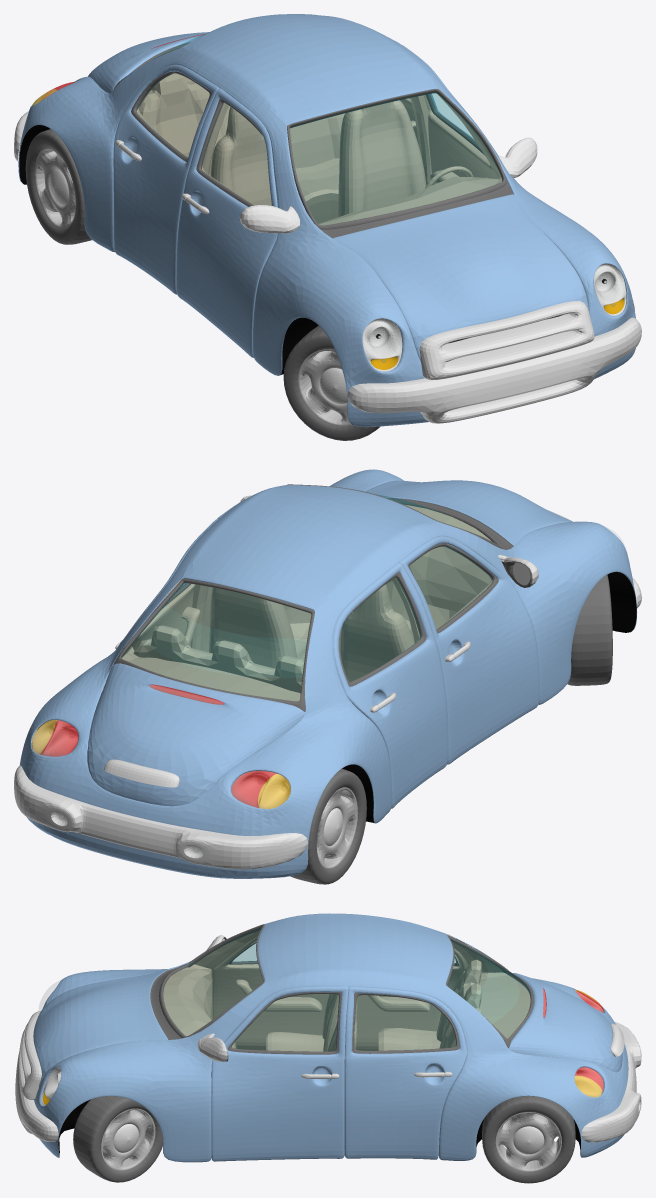
The model's file is sweethome3d-katorlegaz-concept-sedan-02-59.glb.
The picture shows the model from 3 angles, top to bottom: view 1: azimuth 30°, elevation 25°; view 2: azimuth 150°, elevation 25°; view 3: azimuth 270°, elevation 25°; orthographic projection. The views are drawn at different scales.
Visible parts, largest first — view 1: Sedan02_body_Sedan02_body_PAINT_lt_blue, Sedan02_hood_Sedan02_hood_PAINT_lt_blue, Sedan02_windshield_Sedan02_windshield_GLASS_car_window, Sedan02_door_FR_Sedan02_door_FR_PAINT_lt_blue, Sedan02_interior_Sedan02_interior_CAR_interior_beige, Sedan02_bumper_F_Sedan02_bumper_F_METAL_chrome, Sedan02_door_RR_Sedan02_door_RR_PAINT_lt_blue, Sedan02_hood_Sedan02_hood_METAL_chrome, Sedan_02_seat_FL_Sedan02_seat_FL_CAR_interior_beige, Sedan02_door_FR_Sedan02_door_FR_GLASS_car_window, Sedan02_seat_FR_Sedan02_seat_FR_CAR_interior_beige, Sedan02_door_RR_Sedan02_door_RR_GLASS_car_window (+16 smaller); view 2: Sedan02_body_Sedan02_body_PAINT_lt_blue, Sedan02_trunk_Sedan02_trunk_PAINT_lt_blue, Sedan02_door_FR_Sedan02_door_FR_PAINT_lt_blue, Sedan02_interior_Sedan02_interior_CAR_interior_beige, Sedan02_door_RR_Sedan02_door_RR_PAINT_lt_blue, Sedan02_bumper_R_Sedan02_bumper_R_METAL_chrome, Sedan02_rear_window_Sedan02_rear_window_GLASS_car_window, Sedan02_rear_window_Sedan02_rear_window_GLASS_car_defroster, Sedan02_hood_Sedan02_hood_PAINT_lt_blue, Sedan02_door_RR_Sedan02_door_RR_GLASS_car_window, Sedan_02_seat_FL_Sedan02_seat_FL_CAR_interior_beige, Sedan02_seat_FR_Sedan02_seat_FR_CAR_interior_beige (+18 smaller); view 3: Sedan02_body_Sedan02_body_PAINT_lt_blue, Sedan02_door_FL_Sedan02_door_FL_PAINT_lt_blue, Sedan02_door_RL_Sedan02_door_RL_PAINT_lt_blue, Sedan02_interior_Sedan02_interior_CAR_interior_beige, Sedan02_hood_Sedan02_hood_PAINT_lt_blue, Sedan02_trunk_Sedan02_trunk_PAINT_lt_blue, Sedan02_windshield_Sedan02_windshield_GLASS_car_window, Sedan02_door_FR_Sedan02_door_FR_CAR_interior_beige, Sedan02_door_RL_Sedan02_door_RL_GLASS_car_window, Sedan02_door_FL_Sedan02_door_FL_GLASS_car_window, Sedan02_door_RR_Sedan02_door_RR_CAR_interior_beige, Sedan02_RL_Sedan02_tire_RL_METAL_aluminum (+24 smaller).
Boxes of the visible parts, left/top/right/bottom form: Sedan02_body_Sedan02_body_PAINT_lt_blue: left=18, top=14, right=635, bottom=427; Sedan02_hood_Sedan02_hood_PAINT_lt_blue: left=332, top=194, right=588, bottom=360; Sedan02_windshield_Sedan02_windshield_GLASS_car_window: left=290, top=93, right=501, bottom=224; Sedan02_door_FR_Sedan02_door_FR_PAINT_lt_blue: left=176, top=88, right=277, bottom=357; Sedan02_interior_Sedan02_interior_CAR_interior_beige: left=139, top=73, right=502, bottom=225; Sedan02_bumper_F_Sedan02_bumper_F_METAL_chrome: left=347, top=317, right=641, bottom=423; Sedan02_door_RR_Sedan02_door_RR_PAINT_lt_blue: left=113, top=64, right=219, bottom=294; Sedan02_hood_Sedan02_hood_METAL_chrome: left=419, top=301, right=594, bottom=379; Sedan_02_seat_FL_Sedan02_seat_FL_CAR_interior_beige: left=337, top=100, right=426, bottom=217; Sedan02_door_FR_Sedan02_door_FR_GLASS_car_window: left=201, top=103, right=271, bottom=205; Sedan02_seat_FR_Sedan02_seat_FR_CAR_interior_beige: left=211, top=107, right=271, bottom=205; Sedan02_door_RR_Sedan02_door_RR_GLASS_car_window: left=137, top=74, right=208, bottom=157; Sedan02_body_Sedan02_body_PAINT_lt_blue: left=19, top=469, right=637, bottom=878; Sedan02_trunk_Sedan02_trunk_PAINT_lt_blue: left=87, top=663, right=305, bottom=806; Sedan02_door_FR_Sedan02_door_FR_PAINT_lt_blue: left=399, top=536, right=539, bottom=764; Sedan02_interior_Sedan02_interior_CAR_interior_beige: left=122, top=504, right=491, bottom=771; Sedan02_door_RR_Sedan02_door_RR_PAINT_lt_blue: left=333, top=562, right=447, bottom=808; Sedan02_bumper_R_Sedan02_bumper_R_METAL_chrome: left=14, top=765, right=307, bottom=869; Sedan02_rear_window_Sedan02_rear_window_GLASS_car_window: left=122, top=583, right=310, bottom=700; Sedan02_rear_window_Sedan02_rear_window_GLASS_car_defroster: left=137, top=605, right=306, bottom=677; Sedan02_hood_Sedan02_hood_PAINT_lt_blue: left=365, top=480, right=573, bottom=545; Sedan02_door_RR_Sedan02_door_RR_GLASS_car_window: left=341, top=578, right=421, bottom=681; Sedan_02_seat_FL_Sedan02_seat_FL_CAR_interior_beige: left=209, top=587, right=306, bottom=668; Sedan02_seat_FR_Sedan02_seat_FR_CAR_interior_beige: left=340, top=584, right=414, bottom=682; Sedan02_body_Sedan02_body_PAINT_lt_blue: left=34, top=913, right=628, bottom=1162; Sedan02_door_FL_Sedan02_door_FL_PAINT_lt_blue: left=211, top=986, right=348, bottom=1161; Sedan02_door_RL_Sedan02_door_RL_PAINT_lt_blue: left=344, top=986, right=467, bottom=1159; Sedan02_interior_Sedan02_interior_CAR_interior_beige: left=163, top=930, right=530, bottom=1050; Sedan02_hood_Sedan02_hood_PAINT_lt_blue: left=33, top=969, right=167, bottom=1087; Sedan02_trunk_Sedan02_trunk_PAINT_lt_blue: left=509, top=973, right=622, bottom=1072; Sedan02_windshield_Sedan02_windshield_GLASS_car_window: left=163, top=928, right=262, bottom=1035; Sedan02_door_FR_Sedan02_door_FR_CAR_interior_beige: left=212, top=937, right=329, bottom=1050; Sedan02_door_RL_Sedan02_door_RL_GLASS_car_window: left=355, top=995, right=455, bottom=1050; Sedan02_door_FL_Sedan02_door_FL_GLASS_car_window: left=232, top=994, right=338, bottom=1050; Sedan02_door_RR_Sedan02_door_RR_CAR_interior_beige: left=356, top=949, right=466, bottom=1050; Sedan02_RL_Sedan02_tire_RL_METAL_aluminum: left=495, top=1112, right=561, bottom=1171.
Size of the model in its own units: 14.35 by 10.22 by 29.95.
